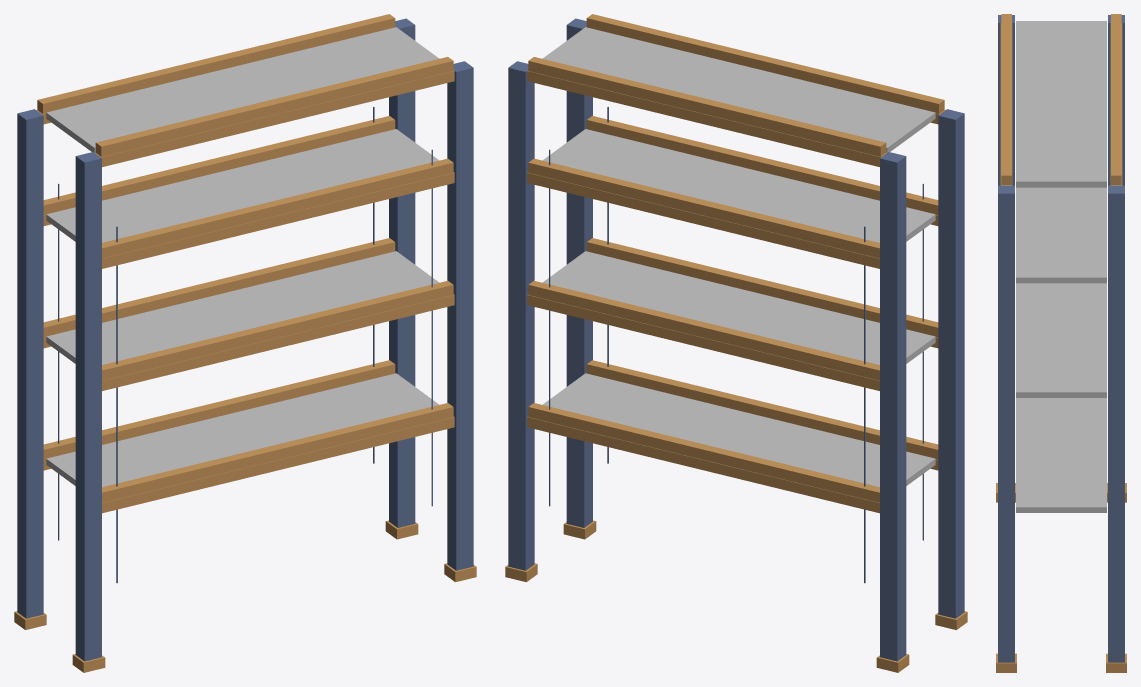
The model's file is shelf-beam-medium-4level-2m.glb.
The picture shows the model from 3 angles, left to right: view 1: azimuth 30°, elevation 25°; view 2: azimuth 150°, elevation 25°; view 3: azimuth 270°, elevation 25°; orthographic projection. The views are drawn at different scales.
Parts seen in each view (by area): view 1: part_27, part_22, part_17, part_12, part_4, part_0, part_2, part_6, part_23, part_13, part_8, part_18 (+8 smaller); view 2: part_27, part_22, part_17, part_12, part_0, part_4, part_6, part_2, part_25, part_15, part_10, part_20 (+8 smaller); view 3: part_27, part_12, part_17, part_22, part_2, part_6, part_23, part_25, part_0, part_4, part_24, part_26 (+2 smaller).
Boxes of the visible parts, box(x1,y1,x2,y2) form: part_27: box(46, 27, 439, 152); part_22: box(46, 129, 439, 242); part_17: box(46, 251, 439, 364); part_12: box(46, 373, 439, 486); part_4: box(17, 109, 43, 618); part_0: box(75, 152, 101, 661); part_2: box(447, 61, 473, 570); part_6: box(389, 18, 415, 527); part_23: box(95, 57, 453, 156); part_13: box(102, 280, 453, 380); part_8: box(102, 403, 453, 502); part_18: box(102, 158, 453, 258); part_27: box(542, 27, 935, 152); part_22: box(542, 129, 935, 242); part_17: box(542, 251, 935, 364); part_12: box(542, 373, 935, 486); part_0: box(938, 109, 964, 618); part_4: box(880, 152, 906, 661); part_6: box(508, 61, 534, 570); part_2: box(566, 18, 592, 527); part_25: box(528, 57, 886, 156); part_15: box(528, 280, 879, 380); part_10: box(528, 403, 879, 502); part_20: box(528, 158, 879, 258); part_27: box(1016, 21, 1106, 187); part_12: box(1016, 398, 1106, 512); part_17: box(1016, 283, 1106, 397); part_22: box(1016, 187, 1106, 283); part_2: box(998, 185, 1014, 662); part_6: box(1108, 185, 1124, 662); part_23: box(1001, 14, 1011, 184); part_25: box(1111, 14, 1121, 184); part_0: box(998, 15, 1014, 185); part_4: box(1108, 15, 1124, 185); part_24: box(1000, 23, 1012, 185); part_26: box(1110, 23, 1122, 185).
Bounding box in the file's own units: 2020 × 2550 × 620.
